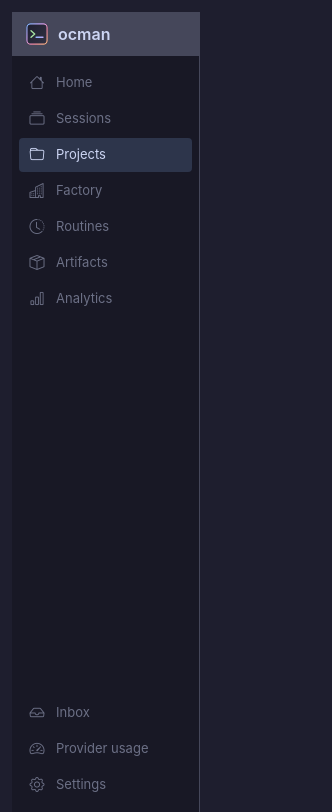
MainNav › shows the app destinations and collapses from the logo
Expected: the navigation bar named "Main navigation" is shown, [12,56,199,811]
Expected: the link "Analytics" is shown, [29,288,112,310]
Click the button with aria-label "Collapse navigation": (106, 34) [12,12,199,56]
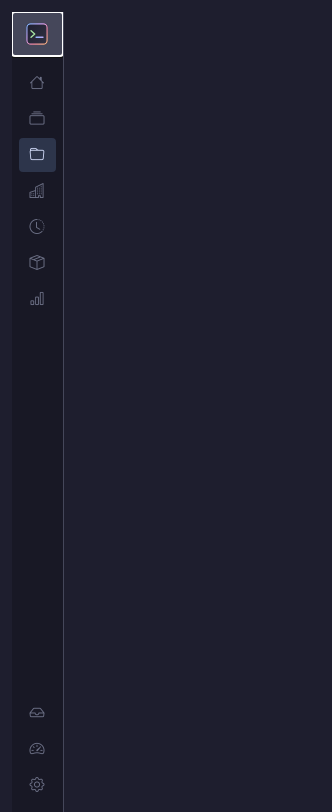
Click the button named "Expand navigation": (38, 34) [12,12,63,56]
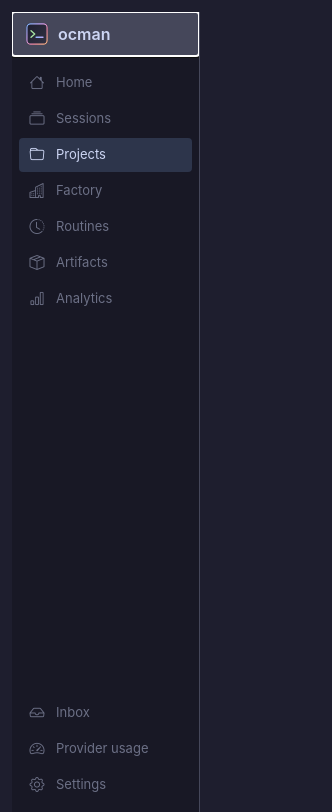
Now the button with aria-label "Collapse navigation" is expanded, box [12,12,199,56]
